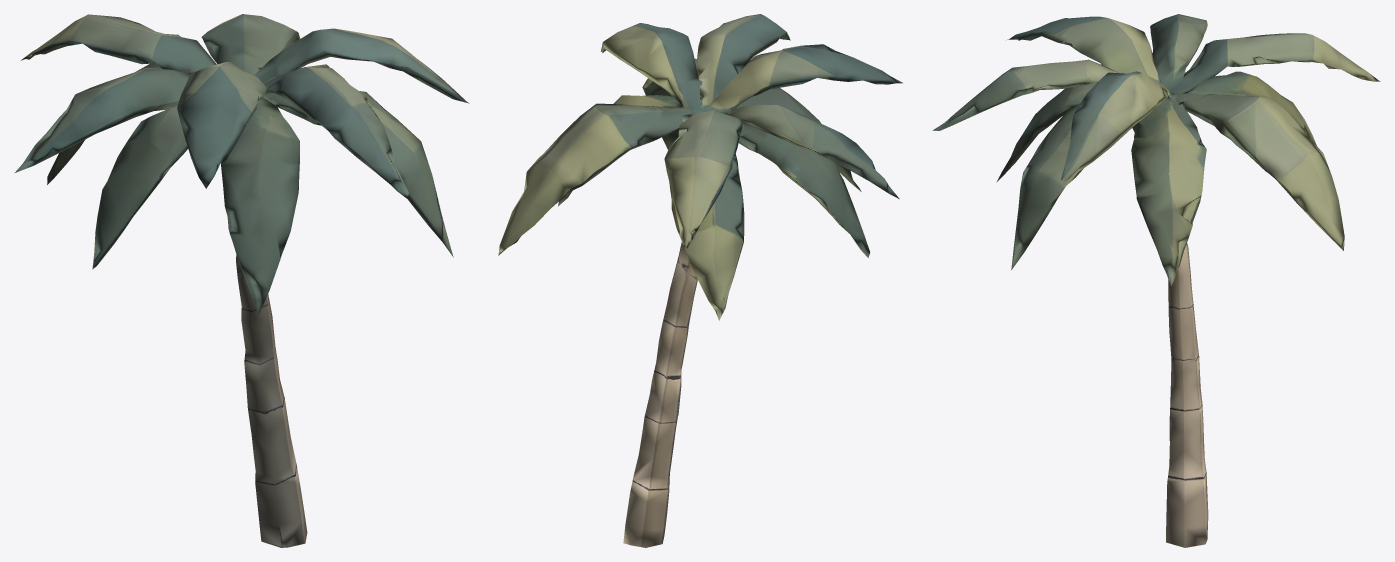
File: palm.glb
3 views of the same model, side by side, from view 1: azimuth 30°, elevation 25°; view 2: azimuth 150°, elevation 25°; view 3: azimuth 270°, elevation 25° (orthographic). The views are drawn at different scales.
Parts seen in each view (by area): view 1: tripo_node_0c08a46e-649a-4a33-9637-aed9ab3c50f5; view 2: tripo_node_0c08a46e-649a-4a33-9637-aed9ab3c50f5; view 3: tripo_node_0c08a46e-649a-4a33-9637-aed9ab3c50f5.
Boxes of the visible parts, <box> form: tripo_node_0c08a46e-649a-4a33-9637-aed9ab3c50f5: <box>15,14,469,547</box>; tripo_node_0c08a46e-649a-4a33-9637-aed9ab3c50f5: <box>498,14,902,547</box>; tripo_node_0c08a46e-649a-4a33-9637-aed9ab3c50f5: <box>933,14,1380,547</box>.
Size of the model in its own units: 0.7722 by 0.9997 by 0.857.
1 material, 1 textured.
